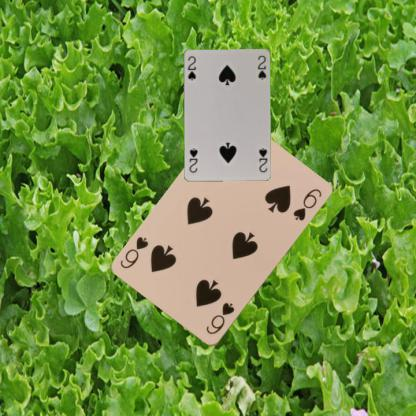2s: (185, 53, 197, 82), (256, 145, 268, 173)
6s: (203, 300, 236, 336)
